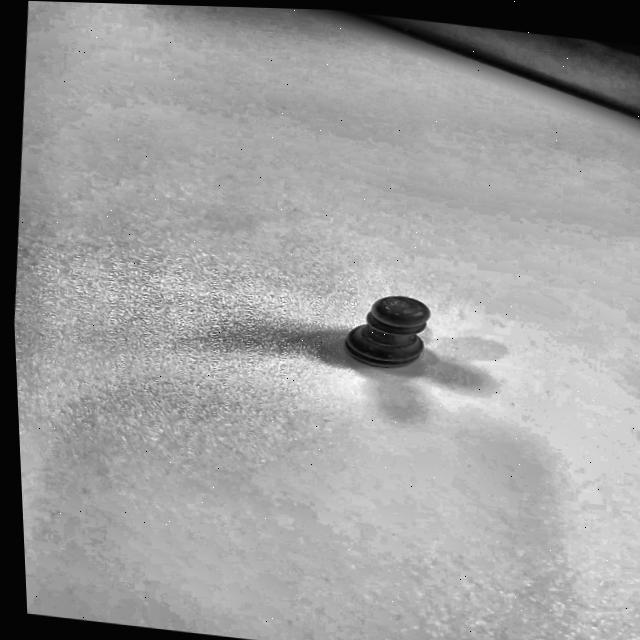black-pawn: (328, 286, 439, 376)
